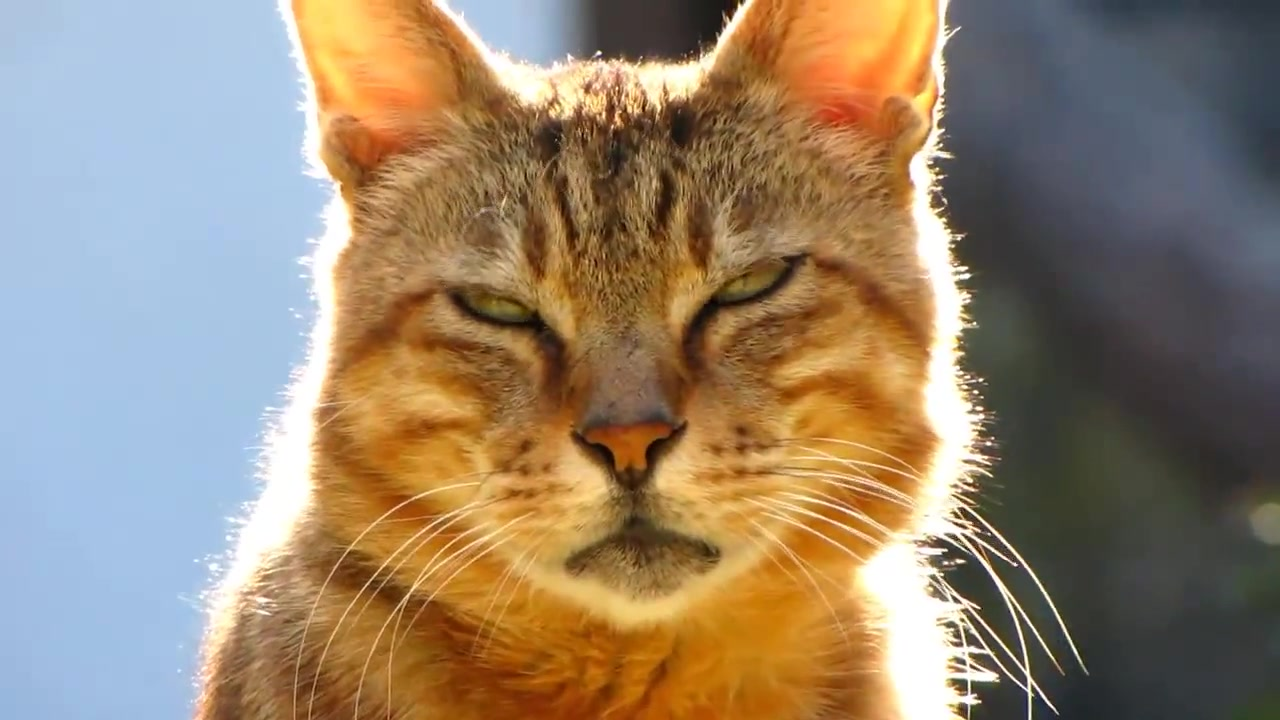cat: (192, 4, 987, 720)
